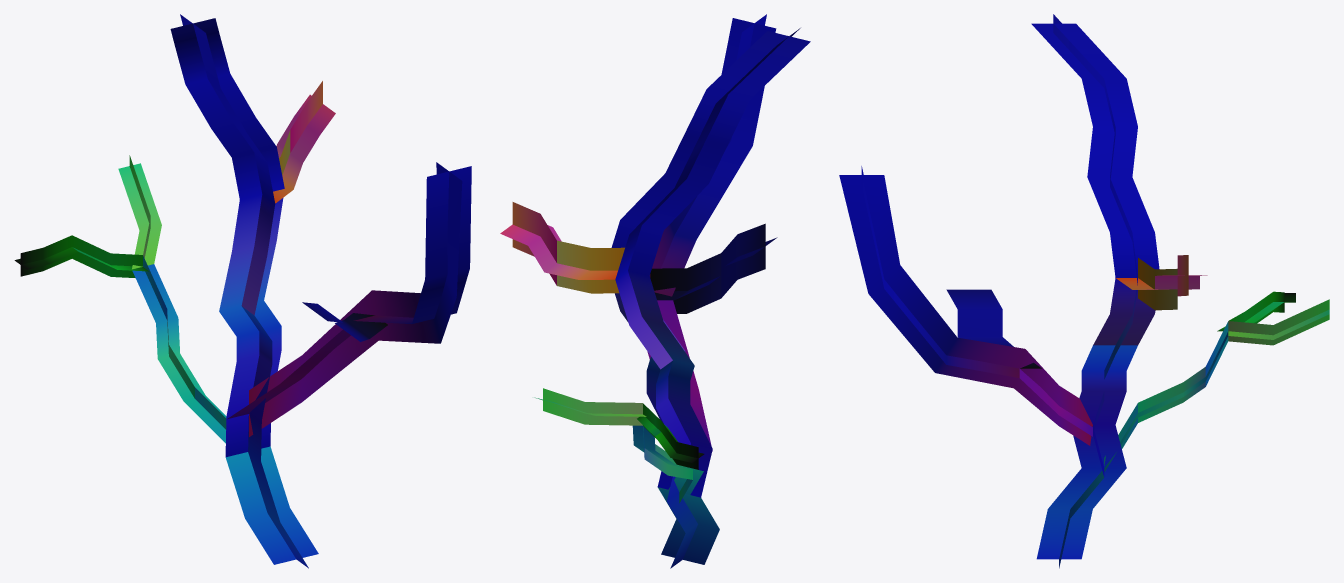
File: uni_energize.fbx
3 views of the same model, side by side, from view 1: azimuth 30°, elevation 25°; view 2: azimuth 150°, elevation 25°; view 3: azimuth 270°, elevation 25° (orthographic). The views are drawn at different scales.
Visible parts, largest first — view 1: uni_energize; view 2: uni_energize; view 3: uni_energize.
Part boxes in pixels (bbox=[...]): uni_energize: bbox=[14, 14, 471, 568]; uni_energize: bbox=[500, 14, 810, 568]; uni_energize: bbox=[839, 14, 1329, 568].
Bounding box in the file's own units: 8800 × 17400 × 19200.
